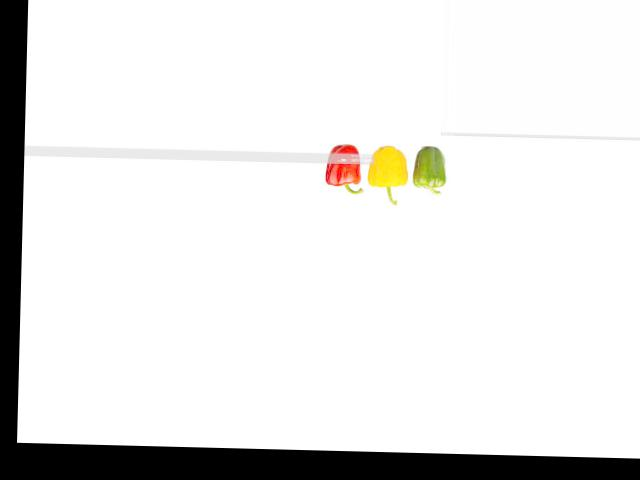bell_pepper: (413, 142, 451, 201)
